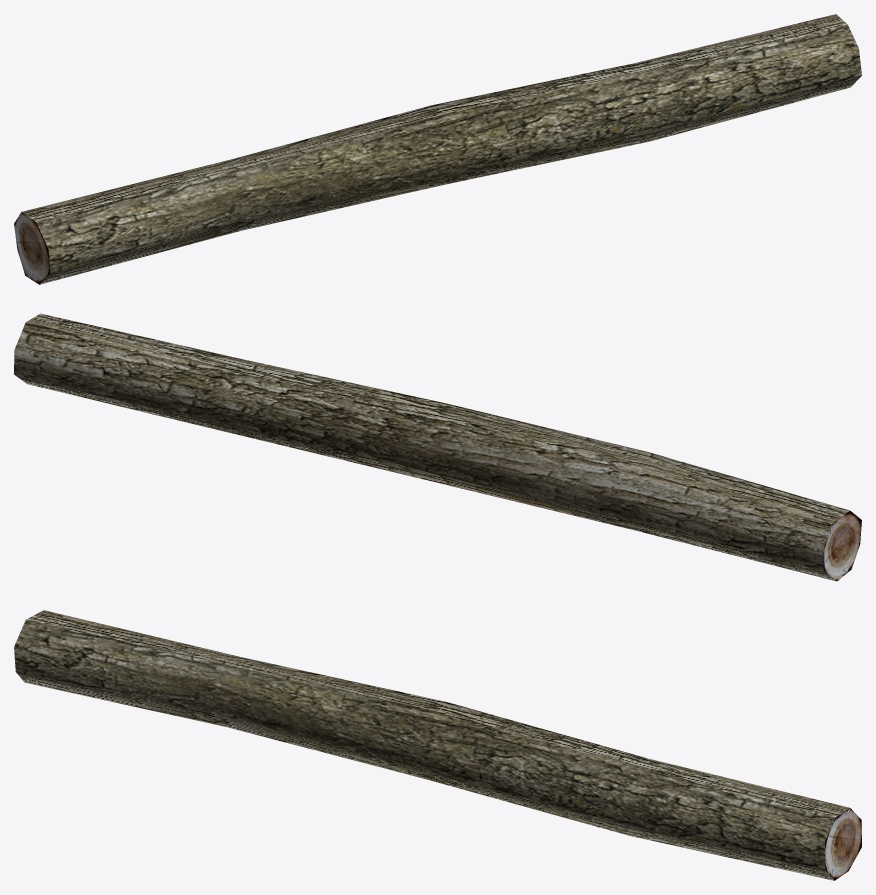
The model's file is loginho.fbx.
3 renders of one model, top to bottom at view 1: azimuth 30°, elevation 25°; view 2: azimuth 150°, elevation 25°; view 3: azimuth 330°, elevation 25°, orthographic.
Visible parts, largest first — view 1: Logs; view 2: Logs; view 3: Logs.
Boxes of the visible parts, x1,y1,x2,y2 form: Logs: [14, 14, 861, 284]; Logs: [14, 313, 861, 581]; Logs: [14, 610, 861, 880].
Bounding box in the file's own units: 10045 × 863 × 800.
